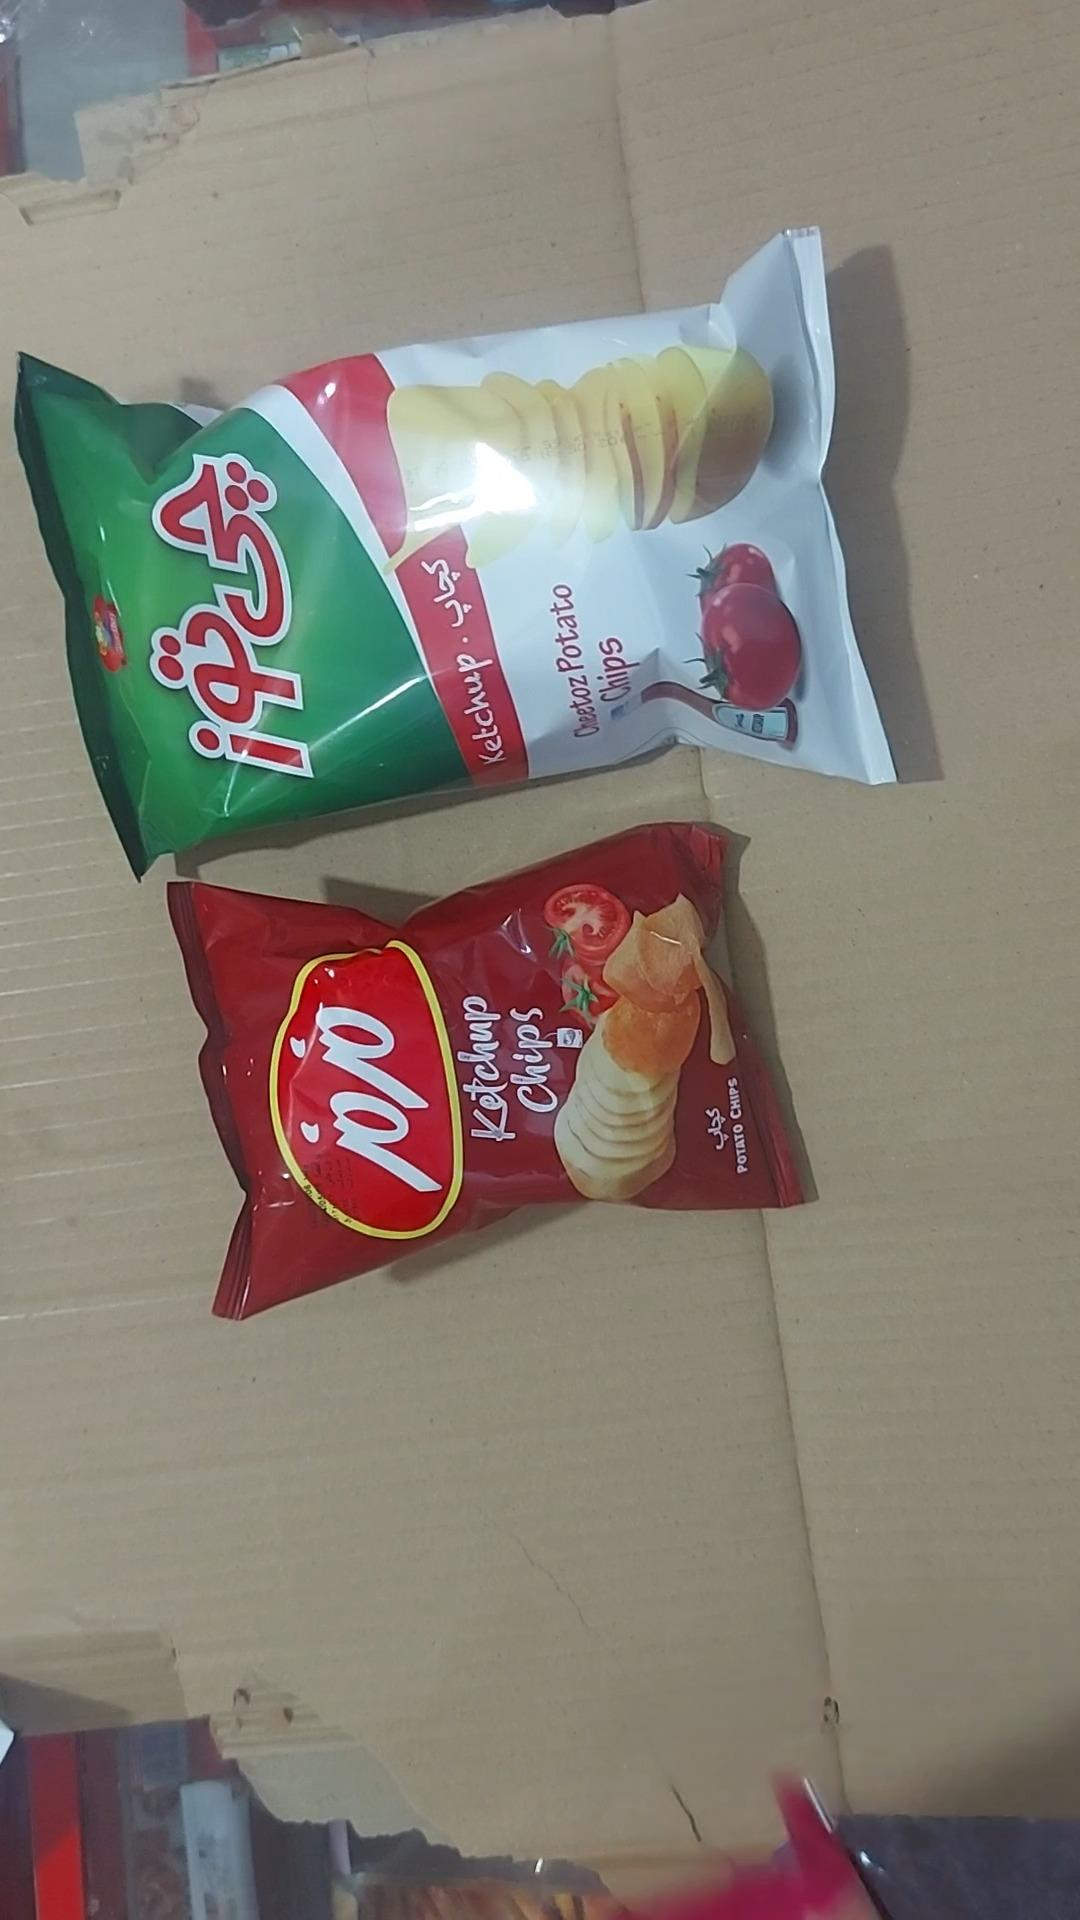Cheetoz ketchup chips: (15, 231, 895, 877)
Maz Maz ketchup chips: (167, 825, 804, 1317)
